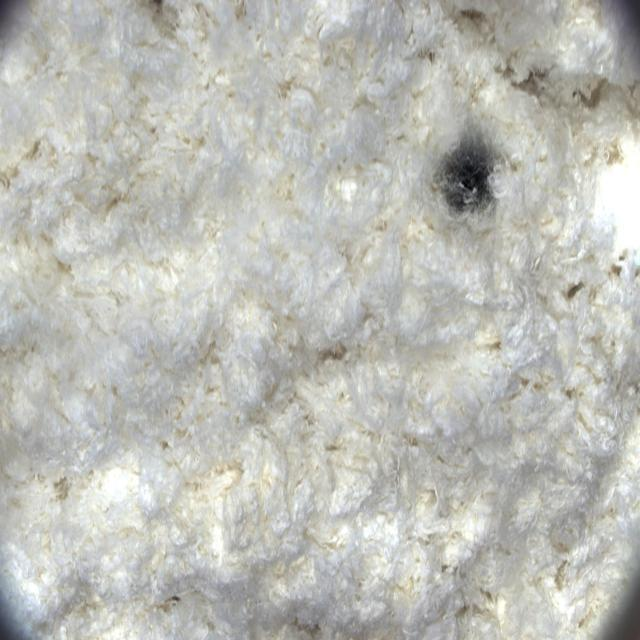dust: (412, 83, 536, 277)
